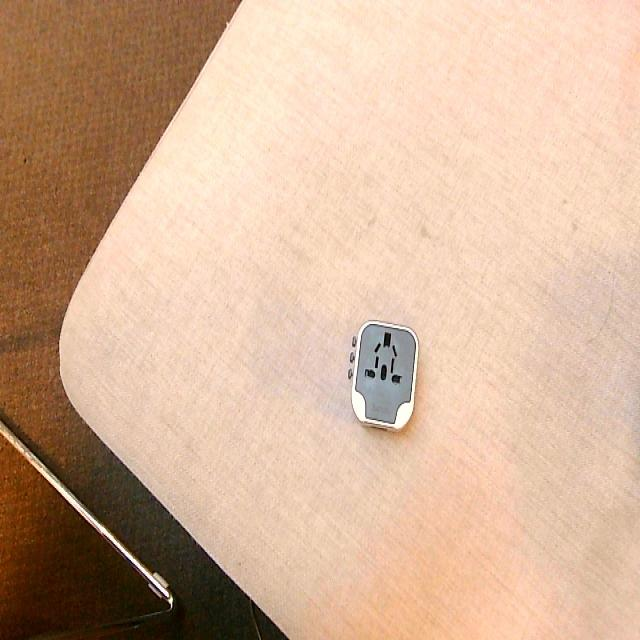adapter: (347, 318, 419, 431)
